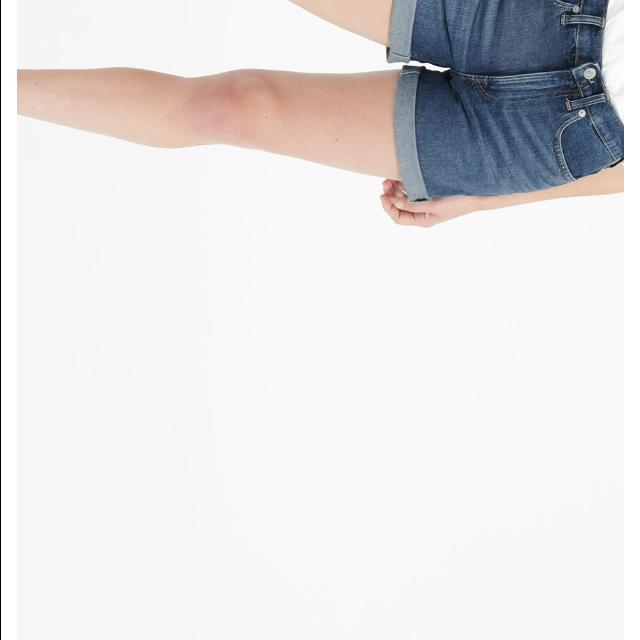denim: (376, 0, 624, 202)
